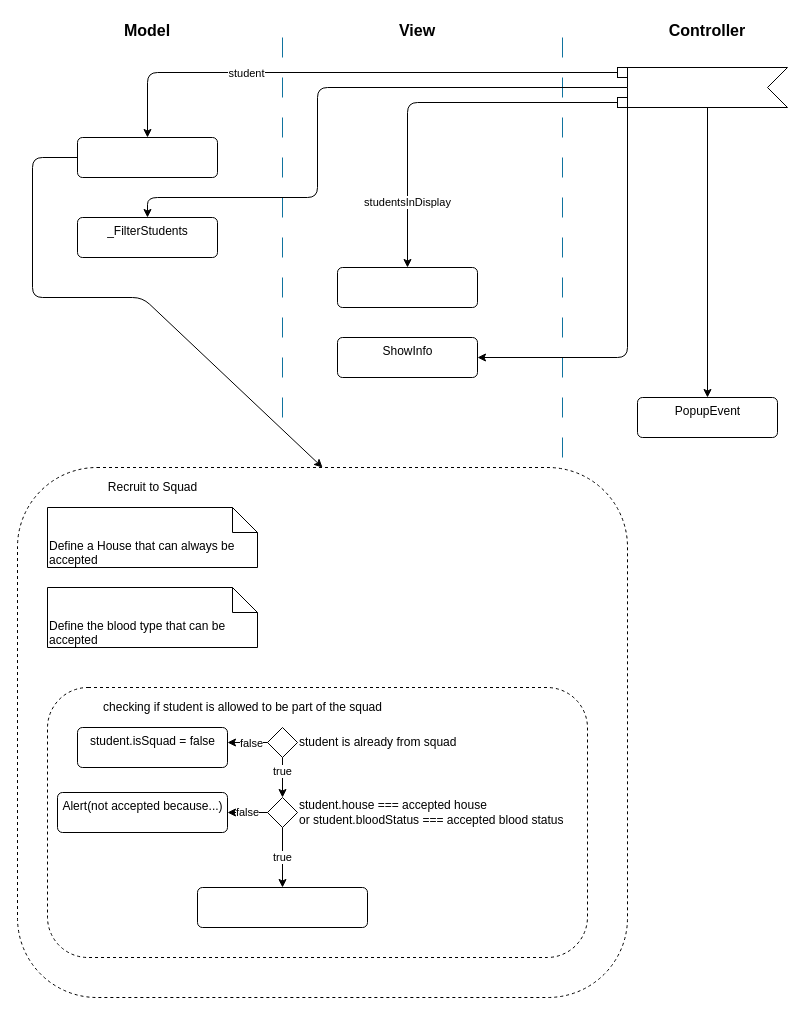
Some shapes in this 805 by 1015 pixel diagram are drawn without their labels. The shapes that lost their labels are listed below. From the top down, each one's centre as x and y in pixels, then its label:
[707,87]: Squad btn clicked
[147,157]: _RecruitToSquad
[407,287]: ShowStudents
[282,907]: student.isSquad = true
